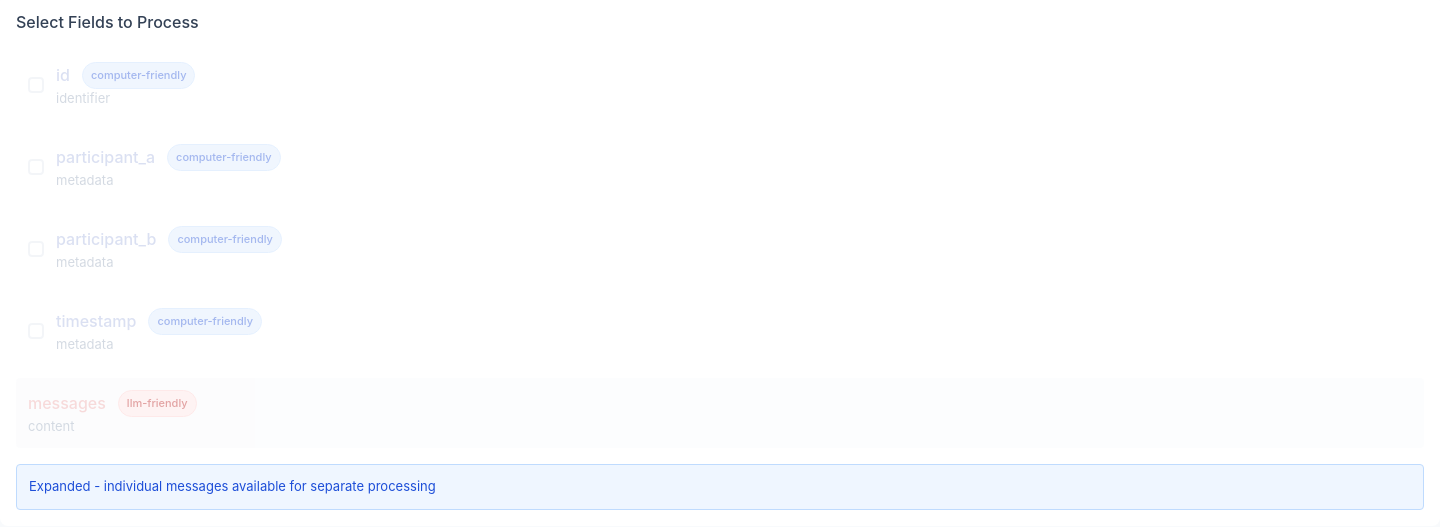
FieldSelector Component › Messages Field Collapse Functionality › should show collapse tooltip on messages field hover
Step 1. Hover over the element with test id "field-messages" → (720, 413), box [16,378,1424,448]
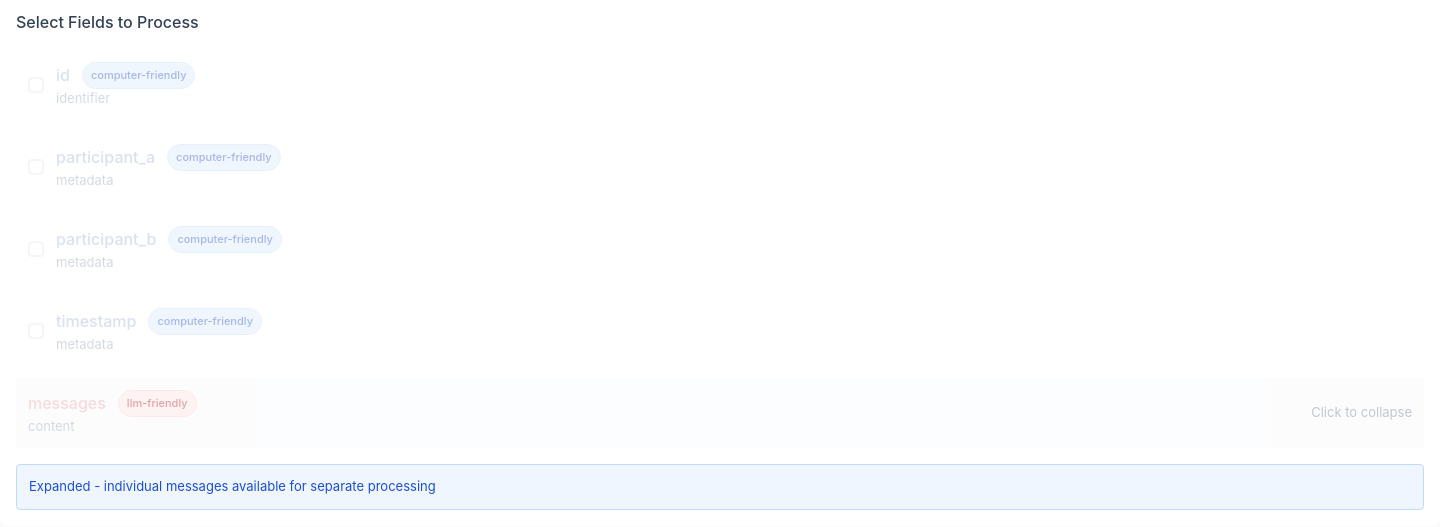
expect the text "Click to collapse" is shown: met, box [1311,403,1412,423]
